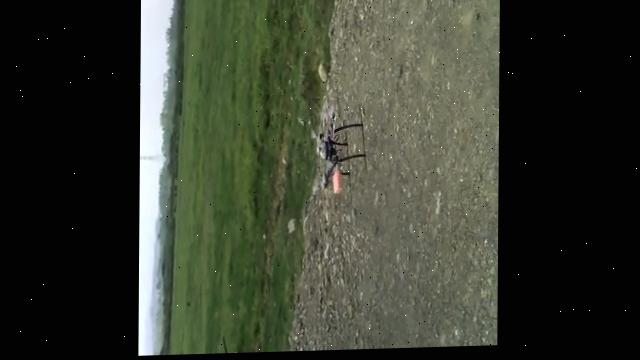drone: (313, 111, 367, 197)
